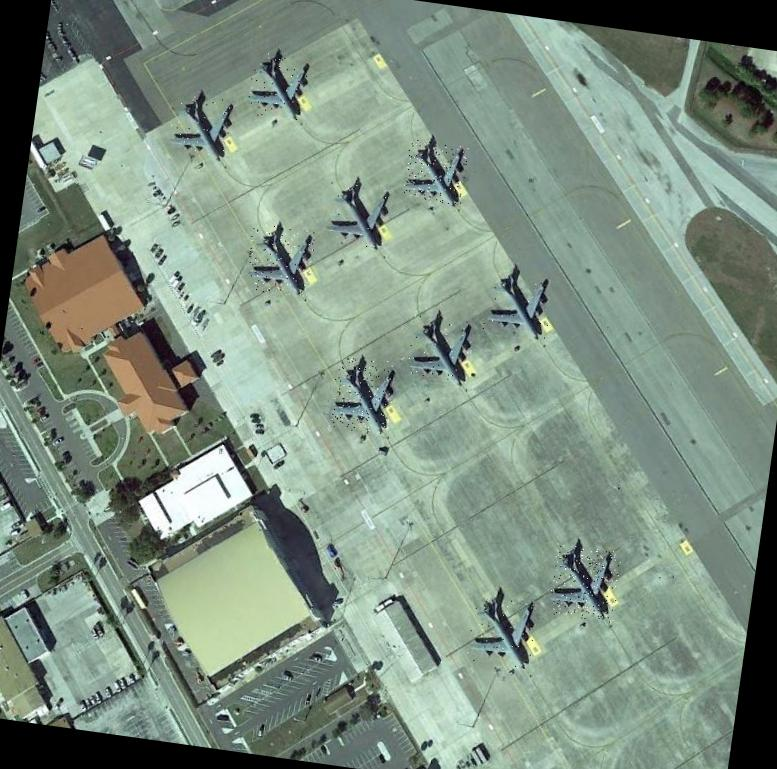A14: (547, 543, 622, 622), (466, 591, 538, 670), (327, 353, 396, 435), (243, 222, 316, 298), (480, 267, 554, 341), (403, 312, 475, 384), (322, 180, 393, 252), (244, 49, 313, 122), (165, 91, 234, 161), (401, 138, 468, 206)
